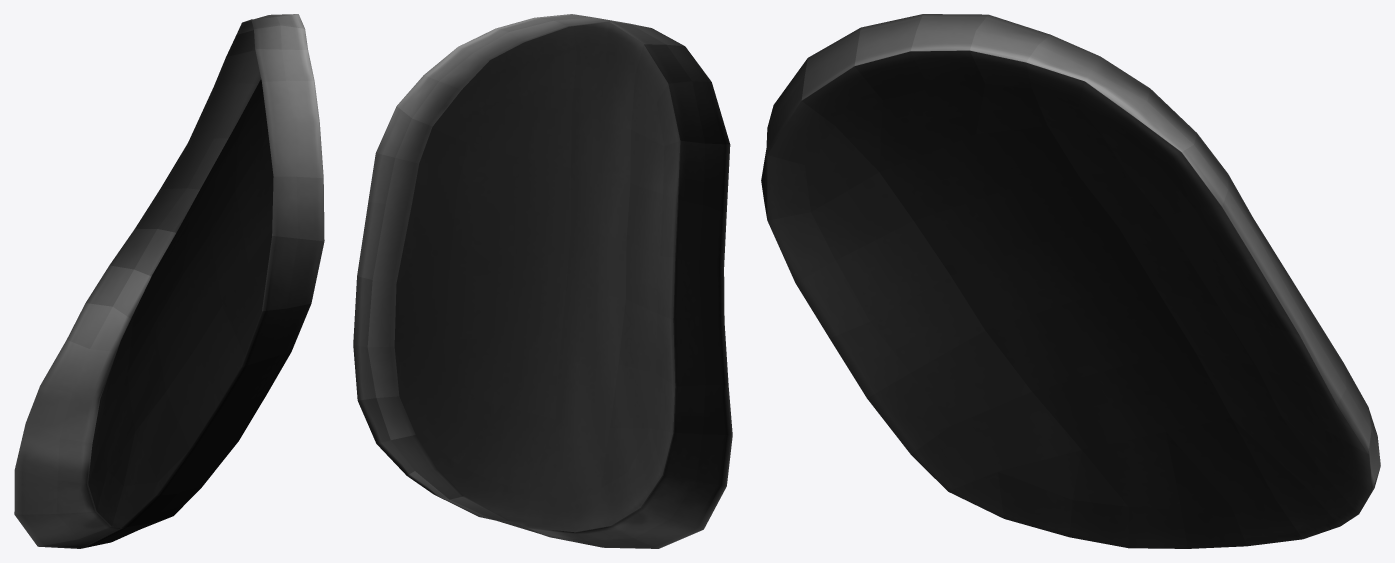
File: YVR_d3_left_grip.obj
3 views of the same model, side by side, from view 1: azimuth 30°, elevation 25°; view 2: azimuth 150°, elevation 25°; view 3: azimuth 270°, elevation 25° (orthographic). The views are drawn at different scales.
Visible parts, largest first — view 1: yvr_d3_left_grip; view 2: yvr_d3_left_grip; view 3: yvr_d3_left_grip.
Boxes of the visible parts, bbox=[...] form: yvr_d3_left_grip: bbox=[14, 14, 324, 548]; yvr_d3_left_grip: bbox=[353, 14, 732, 548]; yvr_d3_left_grip: bbox=[761, 14, 1380, 548].
Size of the model in its own units: 0.0138 by 0.0211 by 0.0199.
1 material, 1 textured.
